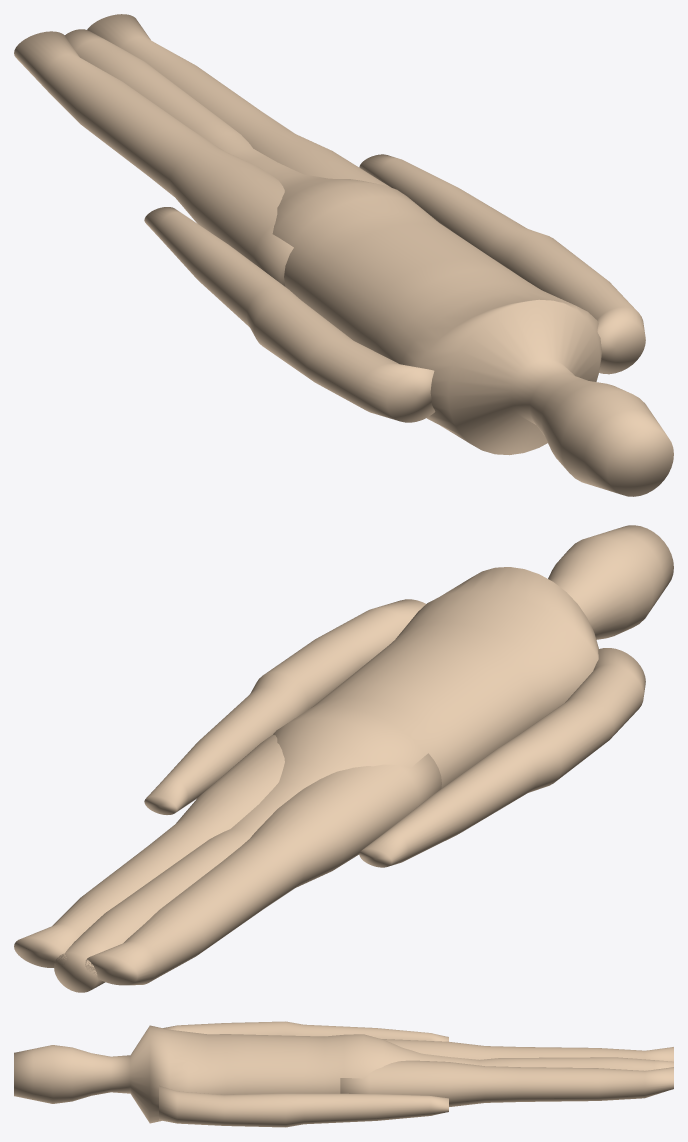
The picture shows the model from 3 angles, top to bottom: view 1: azimuth 30°, elevation 25°; view 2: azimuth 150°, elevation 25°; view 3: azimuth 270°, elevation 25°; orthographic projection. The views are drawn at different scales.
Bounding box in the file's own units: 572 × 269 × 1820.
